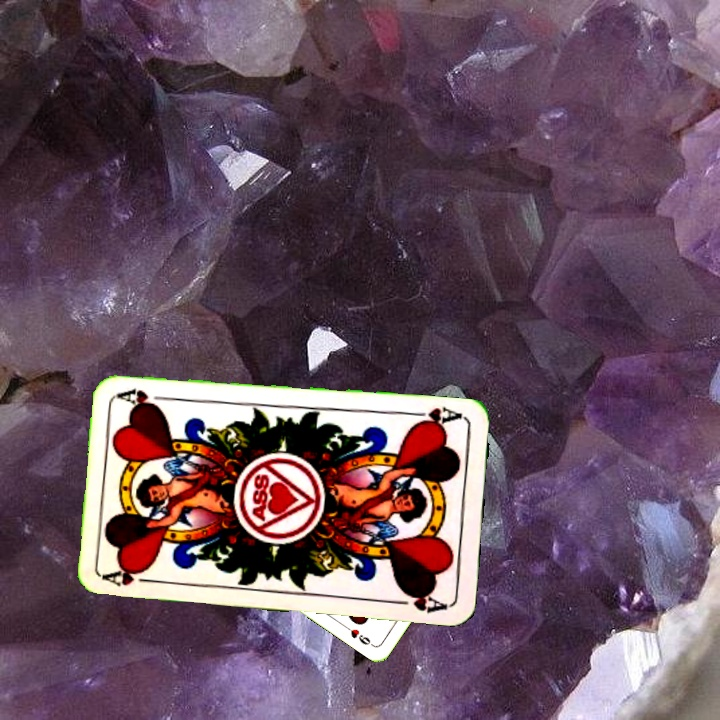HA: (406, 403, 465, 430), (101, 563, 160, 589)
